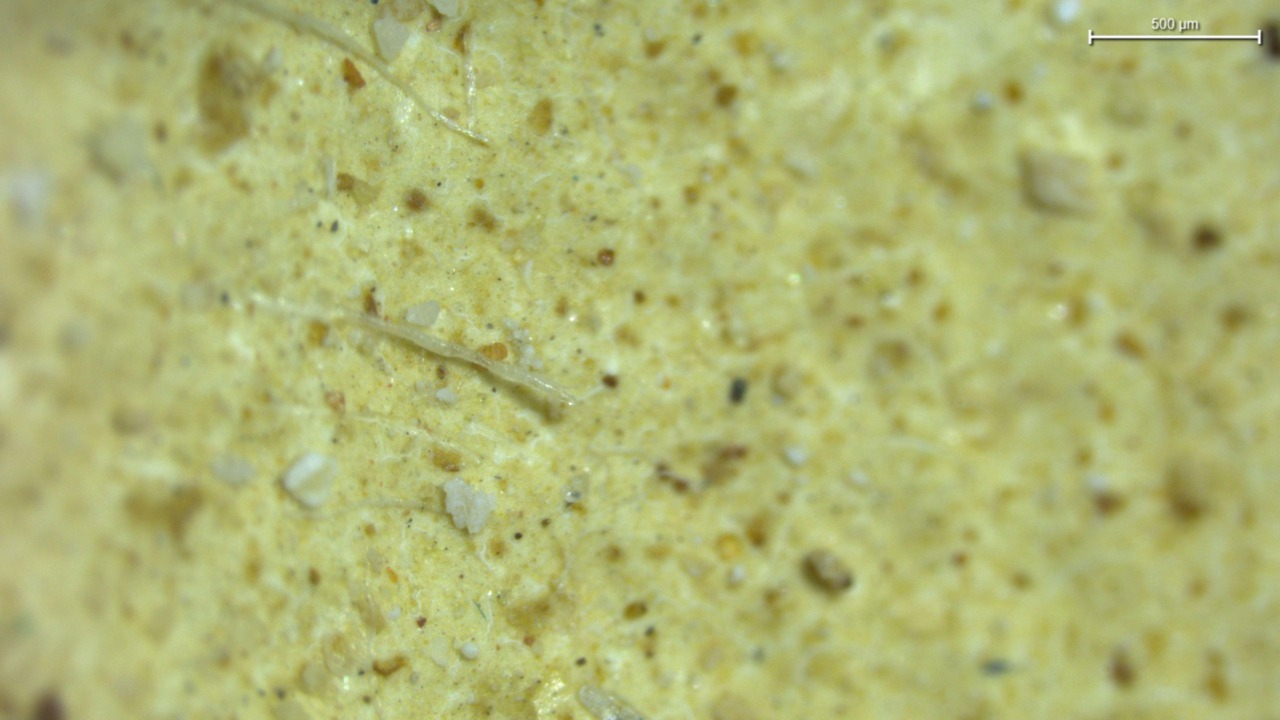microplastic_fragment: (443, 478, 497, 535), (285, 454, 333, 508), (377, 17, 406, 63)
